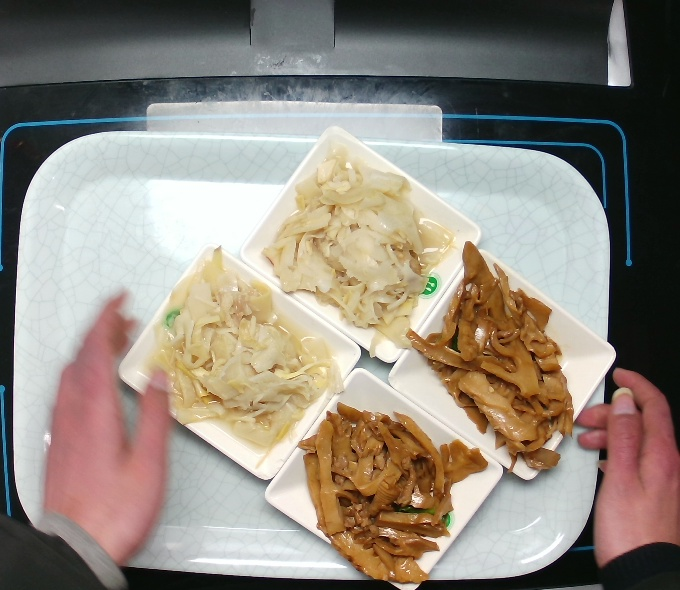wcq-LuSun: (258, 142, 462, 354), (139, 245, 343, 457)
wcq-SunGan: (404, 239, 582, 486), (288, 393, 490, 590)
